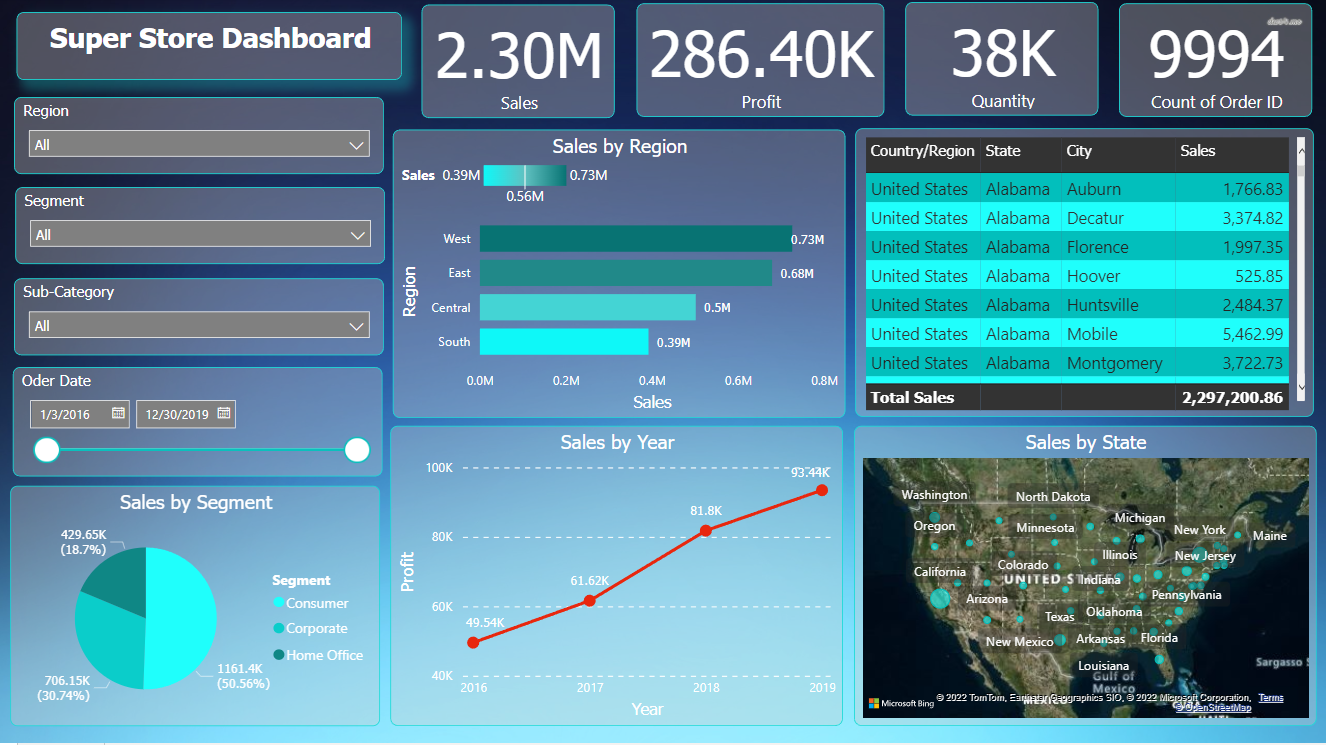

The page's visual inventory and layout, read from the dashboard file:
{"tool":"powerbi","page":{"name":"Sales","canvas":[1280,720],"ordinal":0},"visuals":[{"type":"textbox","box":[16.5,14.3,372.2,65.9],"z":0},{"type":"slicer","title":"Region","fields":{"Values":["Orders.Region"]},"box":[14.6,97,357,74.2],"z":1000},{"type":"slicer","title":"Segment","fields":{"Values":["Orders.Segment"]},"box":[15.1,183.2,357,74.2],"z":2000},{"type":"slicer","title":"Sub-Category","fields":{"Values":["Orders.Sub-Category"]},"box":[15,270.8,357,74.2],"z":3000},{"type":"slicer","title":"Oder Date","fields":{"Values":["Orders.Order Date"]},"box":[13.7,357.1,357,105.8],"z":4000},{"type":"pieChart","title":"Sales by Segment","fields":{"Y":["Sum(Orders.Sales)"],"Category":["Orders.Segment"]},"box":[11,471.1,357.1,232.1],"z":5000},{"type":"lineChart","title":"Sales by Year","fields":{"Y":["Sum(Orders.Profit)"],"Category":["Orders.Order Date.Variation.Date Hierarchy.Year"]},"box":[377.7,413.4,436.7,289.8],"z":6000},{"type":"map","title":"Sales by State","fields":{"Size":["Sum(Orders.Sales)"],"Category":["Orders.State"]},"box":[824.9,413.4,446,289.8],"z":7000},{"type":"tableEx","title":"Sales by Segment","fields":{"Values":["Orders.Country/Region","Orders.State","Orders.City","Sum(Orders.Sales)"]},"box":[826.2,126.4,442.8,278.8],"z":8000},{"type":"barChart","title":"Sales by Region","fields":{"Category":["Orders.Region"],"Y":["Sum(Orders.Sales)"]},"box":[380.2,127.7,437,278.8],"z":9000},{"type":"card","title":"Sales by Segment","fields":{"Values":["Sum(Orders.Sales)"]},"box":[407.9,6.9,186.8,109.6],"z":10000},{"type":"card","title":"Sales by Segment","fields":{"Values":["Sum(Orders.Profit)"]},"box":[615.6,5.5,239,109.9],"z":11000},{"type":"card","title":"Sales by Segment","fields":{"Values":["Sum(Orders.Quantity)"]},"box":[874.6,4.9,186.8,109.9],"z":12000},{"type":"card","title":"Sales by Segment","fields":{"Values":["CountNonNull(Orders.Order ID)"]},"box":[1081.1,6,186.8,109.9],"z":13000}]}

Visuals, with their boxes in screenshot pixels (x1, y1, x2, y2), scaled from the page's 1280x720 canvas onto the 1326x745 screenshot:
textbox: (17, 15, 403, 83)
"Region" slicer: (15, 100, 385, 177)
"Segment" slicer: (16, 190, 385, 266)
"Sub-Category" slicer: (16, 280, 385, 357)
"Oder Date" slicer: (14, 369, 384, 479)
"Sales by Segment" pieChart: (11, 487, 381, 728)
"Sales by Year" lineChart: (391, 428, 844, 728)
"Sales by State" map: (855, 428, 1317, 728)
"Sales by Segment" tableEx: (856, 131, 1315, 419)
"Sales by Region" barChart: (394, 132, 847, 421)
"Sales by Segment" card: (423, 7, 616, 121)
"Sales by Segment" card: (638, 6, 885, 119)
"Sales by Segment" card: (906, 5, 1100, 119)
"Sales by Segment" card: (1120, 6, 1313, 120)
